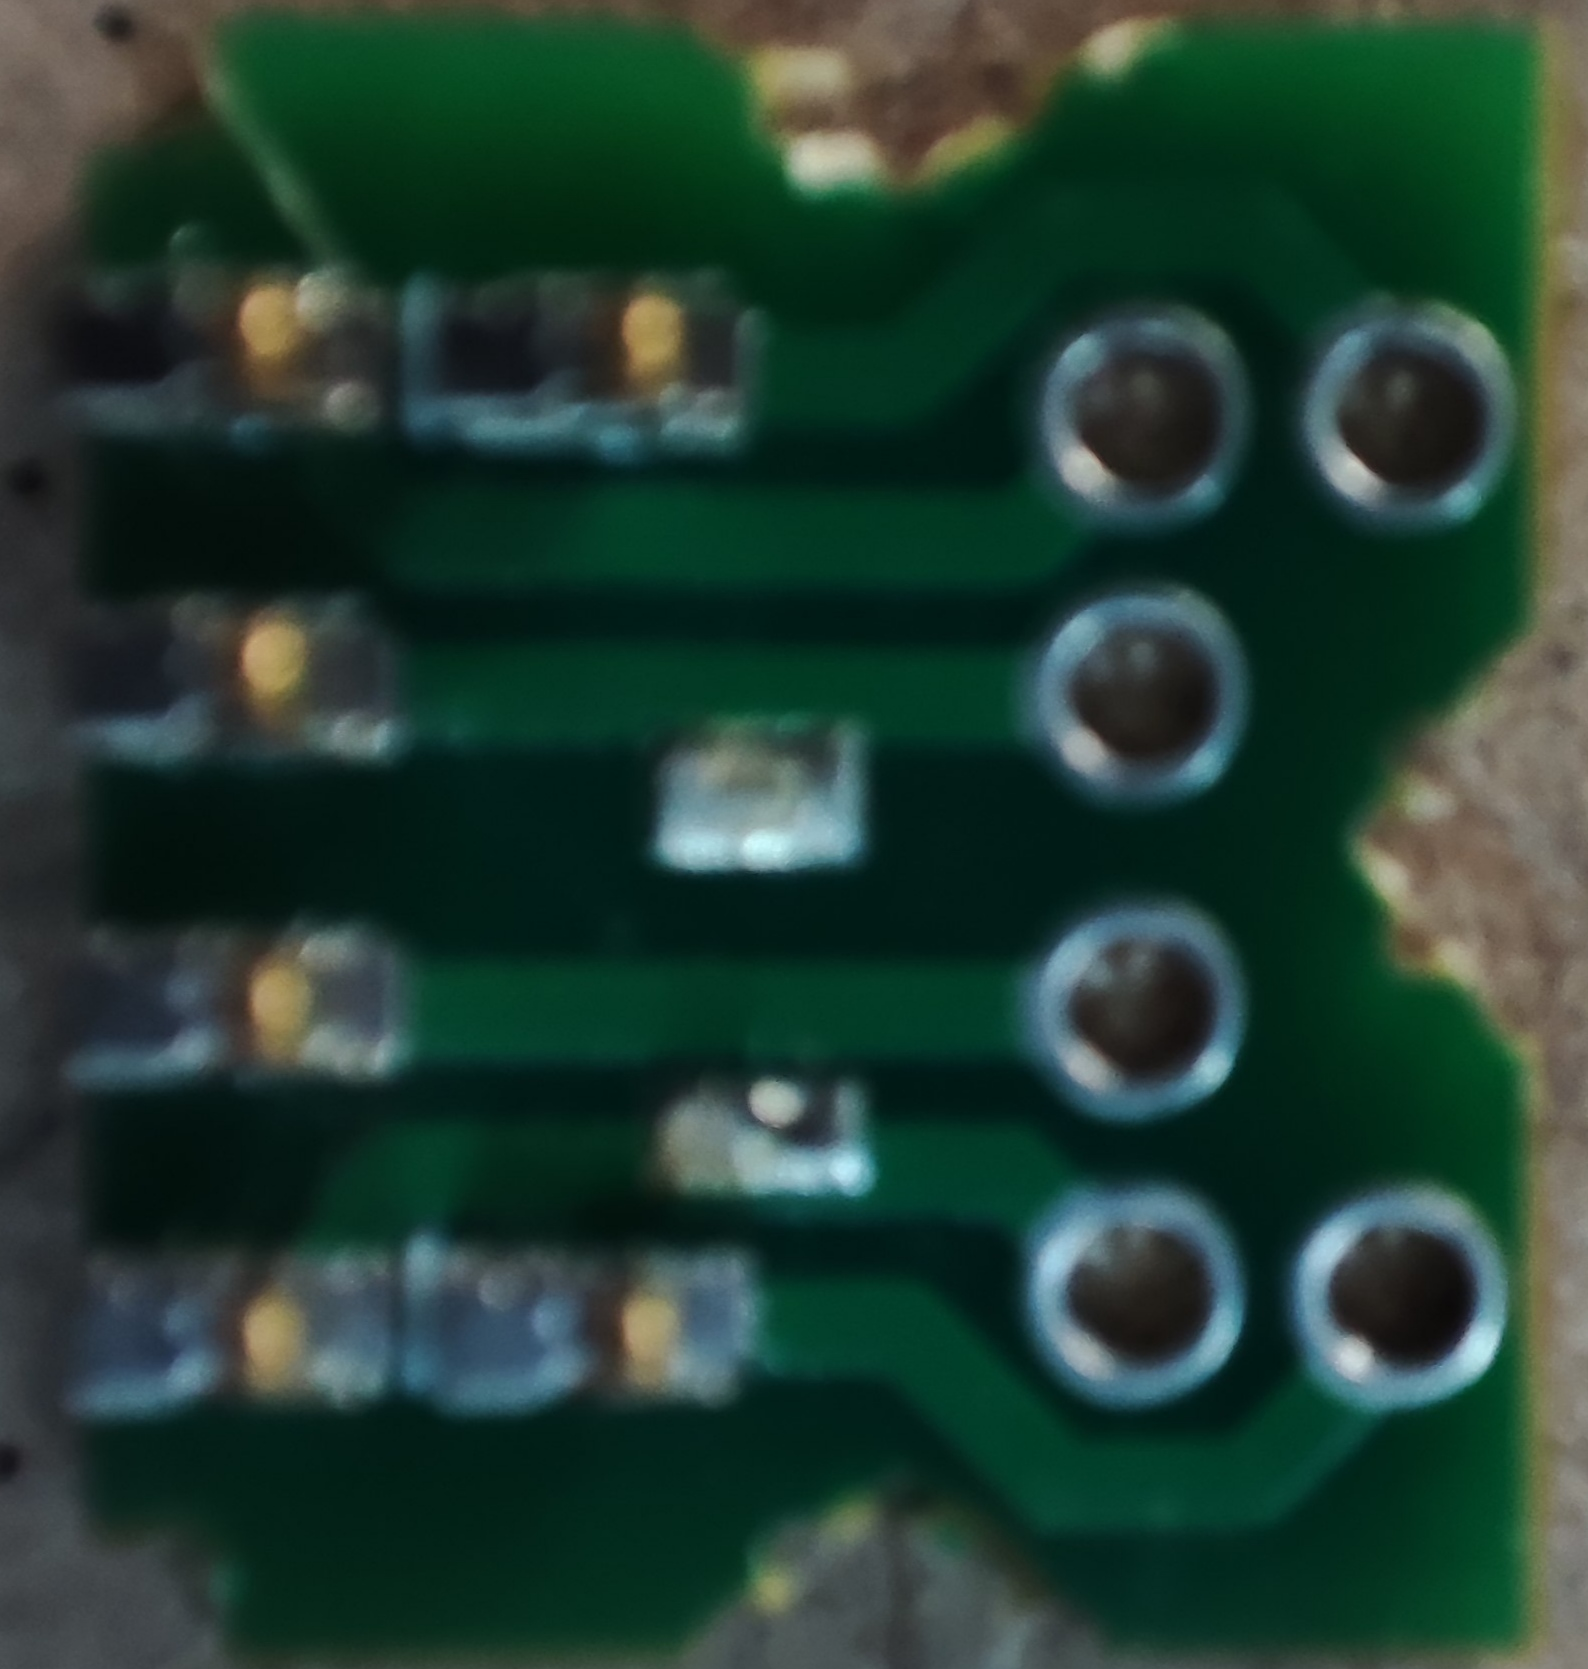PCB-MODEL-0: (4, 3, 1579, 1669)
normal-spring_finger: (42, 875, 495, 1130), (63, 533, 438, 808), (410, 1217, 793, 1477), (31, 1213, 392, 1463), (413, 231, 787, 466), (57, 231, 401, 457)
normal-through: (1006, 875, 1295, 1141), (1031, 559, 1269, 829), (1006, 1164, 1259, 1416), (1300, 280, 1528, 536), (1031, 285, 1265, 526), (1295, 1188, 1522, 1431)
